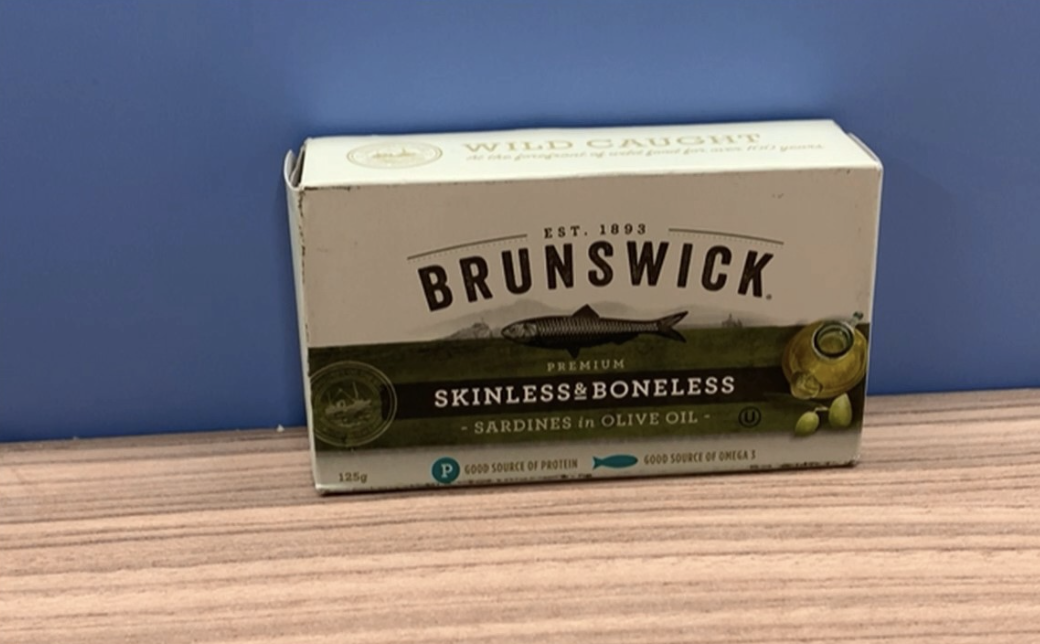sardines_150g: (308, 191, 861, 474)
